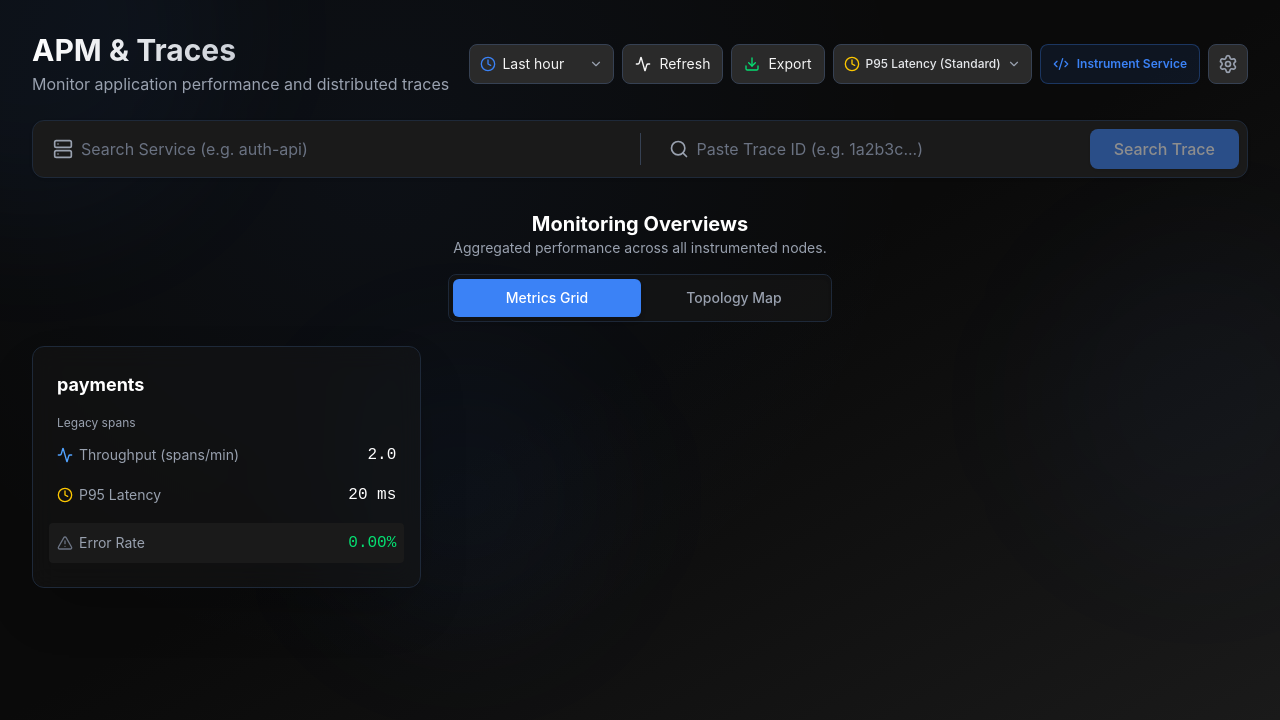
Test: APM dashboard characterization › distinguishes a filtered-out service from absent telemetry
Expected: the heading "payments" is shown, x1=57 y1=371 x2=144 y2=399
Step 1. Type "missing" into the field with placeholder "Search Service (e.g. auth-api)" → (332, 149), box x1=41 y1=129 x2=624 y2=169
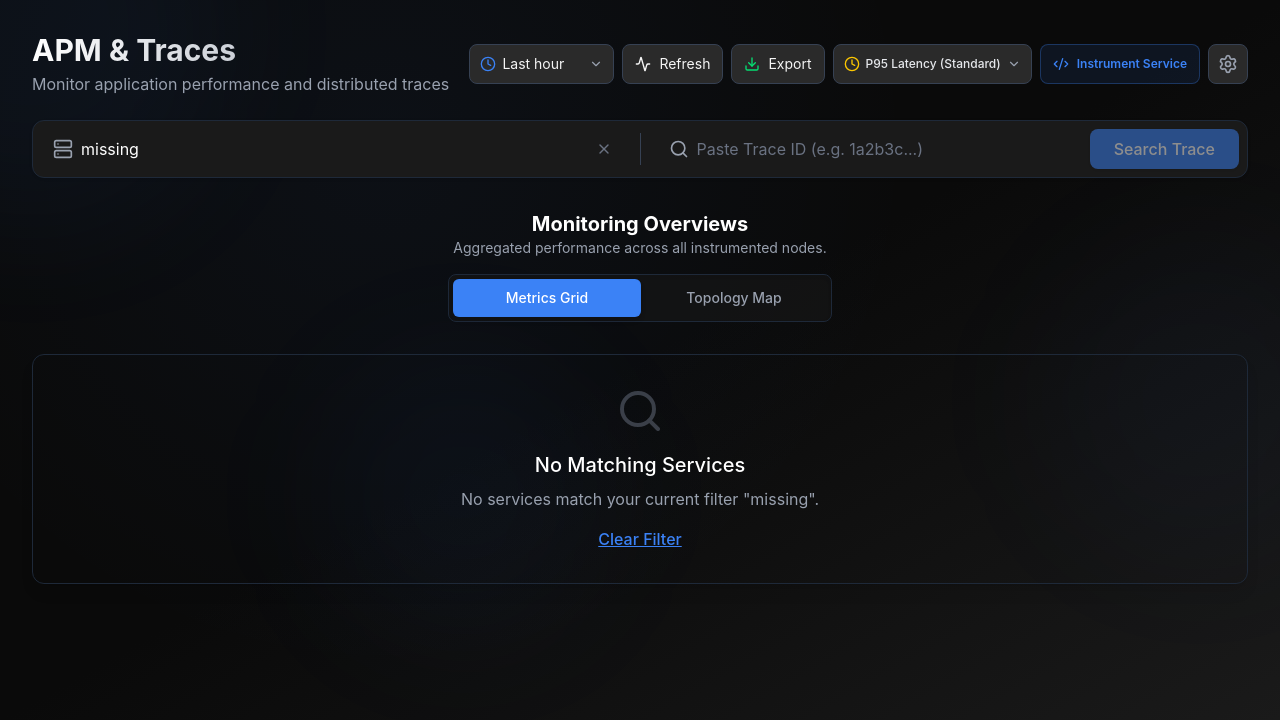
Now the heading "No Matching Services" is shown, box x1=535 y1=453 x2=745 y2=477
